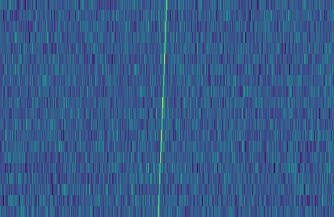signal: (153, 0, 170, 217)
